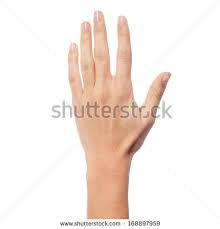hand: (48, 6, 192, 168)
